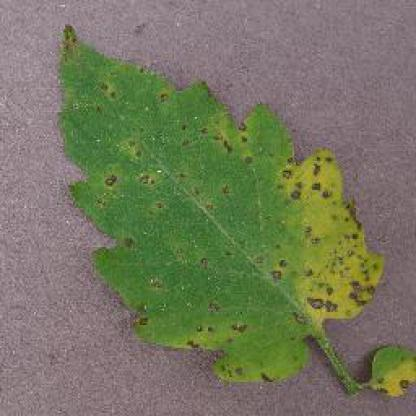bad leaf: (70, 38, 386, 390)
